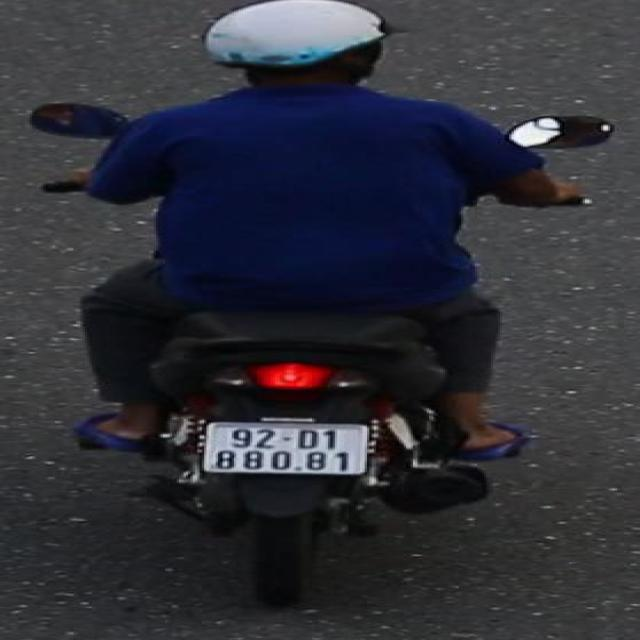LP: (197, 415, 376, 479)
helmet: (197, 0, 395, 98)
